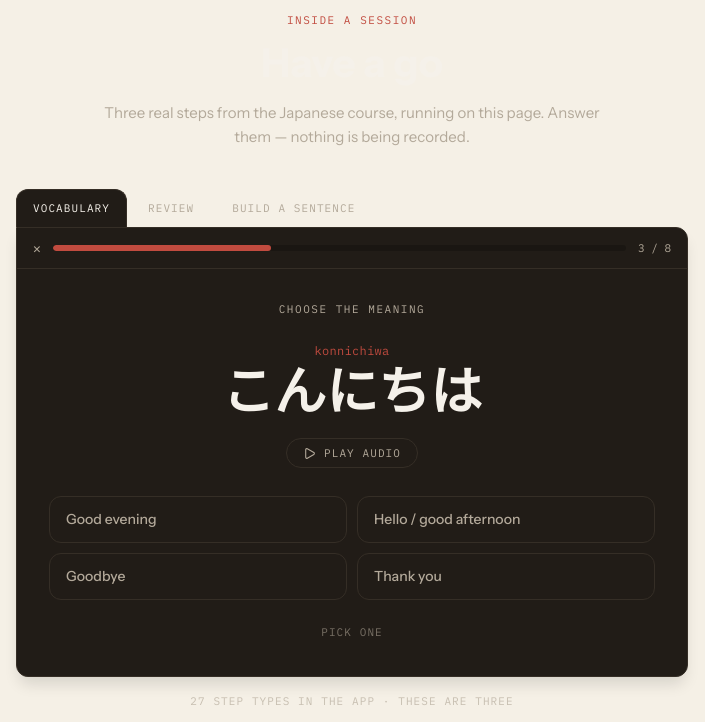
Test: StepShowcase › switches between step types
This screenshot has width=705, height=722.
What coordinates should you click on to do the following:
click the tab "Build a sentence"
I would click on:
 (294, 208)
Its box is [215,189,372,227].
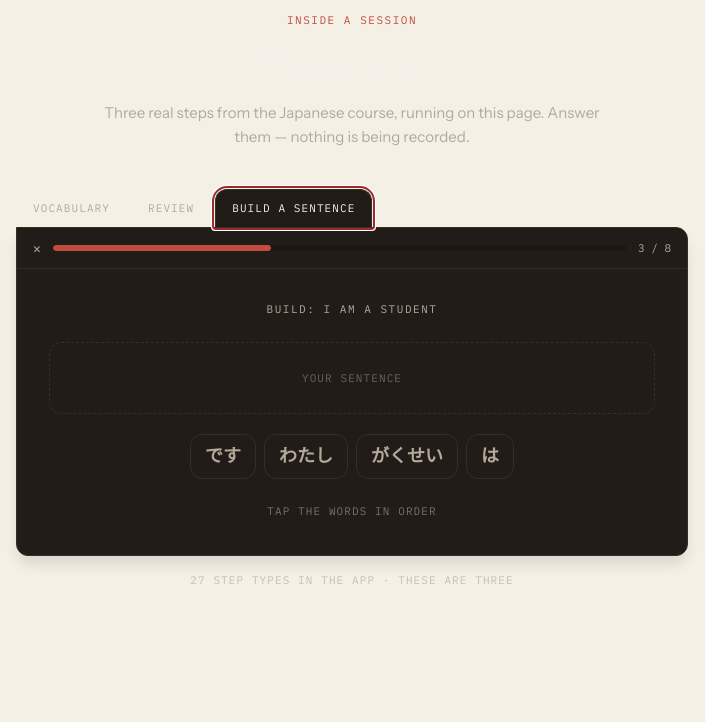
Check: the text "Build: I am a student" is shown, box [266,302,438,316]
